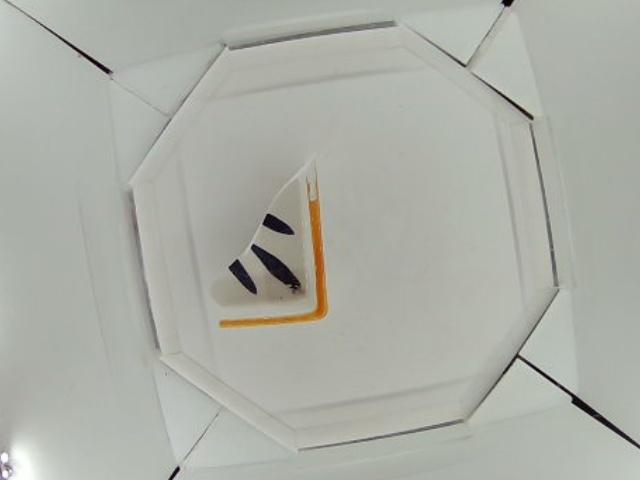China: (205, 157, 329, 328)
